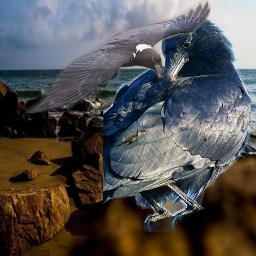Crow: (103, 16, 251, 232), (25, 0, 211, 116)
Cuckoo: (113, 129, 148, 147)
